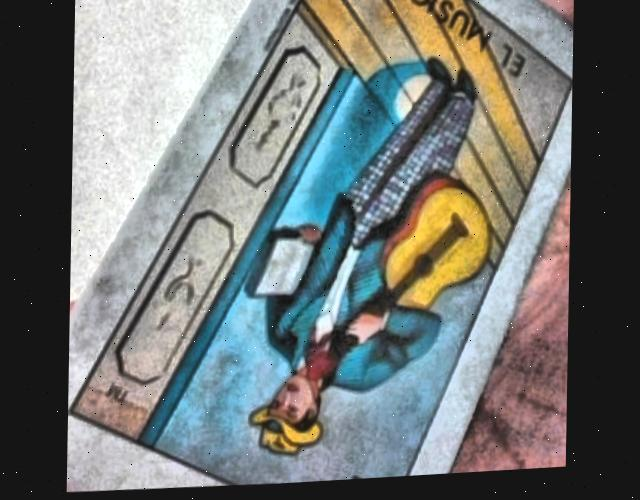El Musico: (68, 0, 572, 488)
